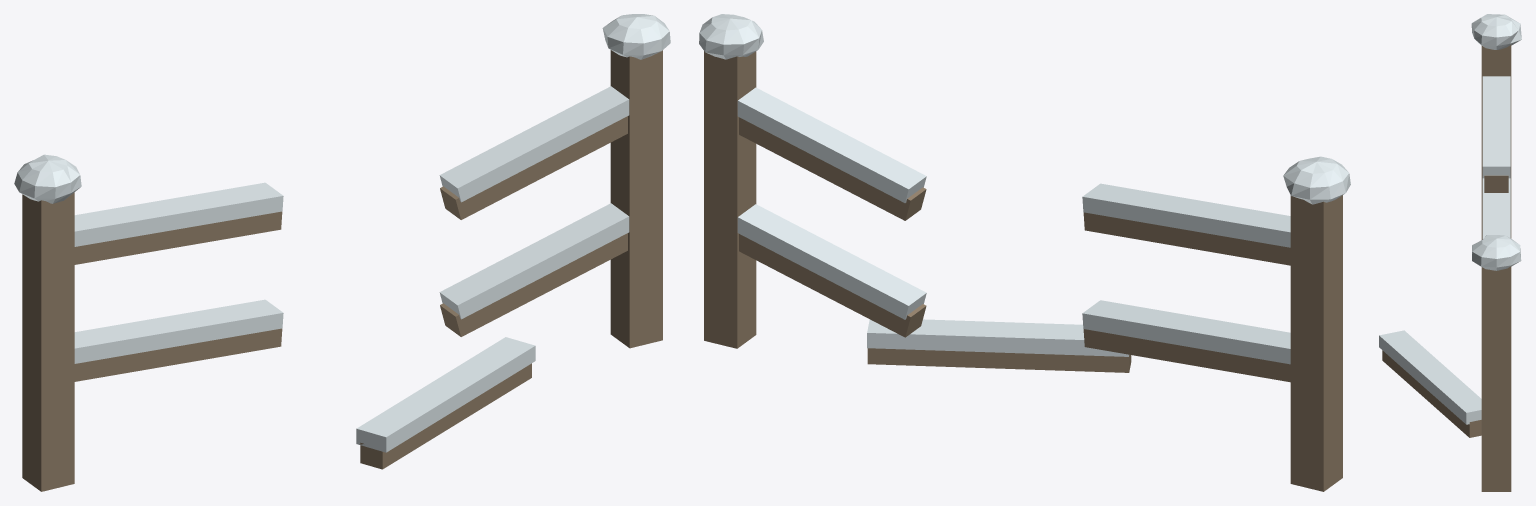
The model's file is PROP_03_FenceBrokenSnowy.glb.
The picture shows the model from 3 angles, left to right: view 1: azimuth 30°, elevation 25°; view 2: azimuth 150°, elevation 25°; view 3: azimuth 270°, elevation 25°; orthographic projection. The views are drawn at different scales.
Visible parts, largest first — view 1: PROP_03_FenceBrokenSnowy; view 2: PROP_03_FenceBrokenSnowy; view 3: PROP_03_FenceBrokenSnowy.
Boxes of the visible parts, <box> form: PROP_03_FenceBrokenSnowy: <box>14,14,670,491</box>; PROP_03_FenceBrokenSnowy: <box>699,14,1350,491</box>; PROP_03_FenceBrokenSnowy: <box>1379,14,1521,491</box>.
Size of the model in its own units: 3.29 by 1.56 by 0.8172.
